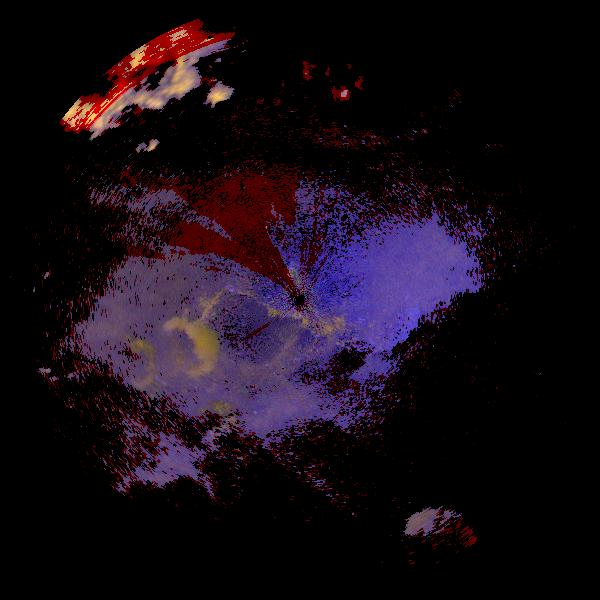roost: (104, 286, 245, 427), (379, 478, 499, 598)
